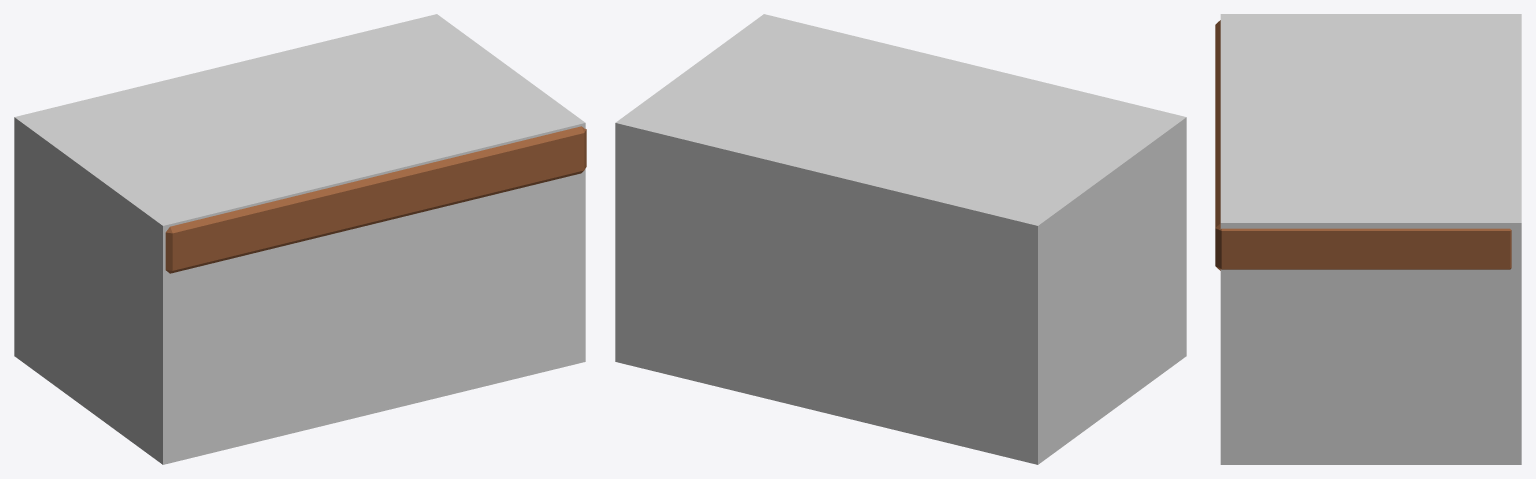
Rendered from wall-shelf-b.glb.
3 renders of one model, left to right at view 1: azimuth 30°, elevation 25°; view 2: azimuth 150°, elevation 25°; view 3: azimuth 270°, elevation 25°, orthographic.
Visible parts, largest first — view 1: Wall shelf B_col, Wall shelf B; view 2: Wall shelf B_col; view 3: Wall shelf B_col, Wall shelf B.
Part boxes in pixels (<box>): Wall shelf B_col: <box>14,14,585,464</box>; Wall shelf B: <box>165,126,586,273</box>; Wall shelf B_col: <box>615,14,1186,464</box>; Wall shelf B_col: <box>1220,14,1521,464</box>; Wall shelf B: <box>1215,20,1511,270</box>.
Bounding box in the file's own units: 3.29 × 1.78 × 2.04.
